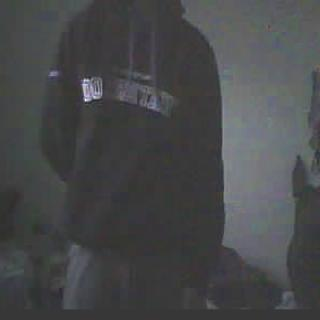Blue Sweatpants: (69, 246, 200, 320)
Waterloo Hoodie: (46, 0, 222, 251)
